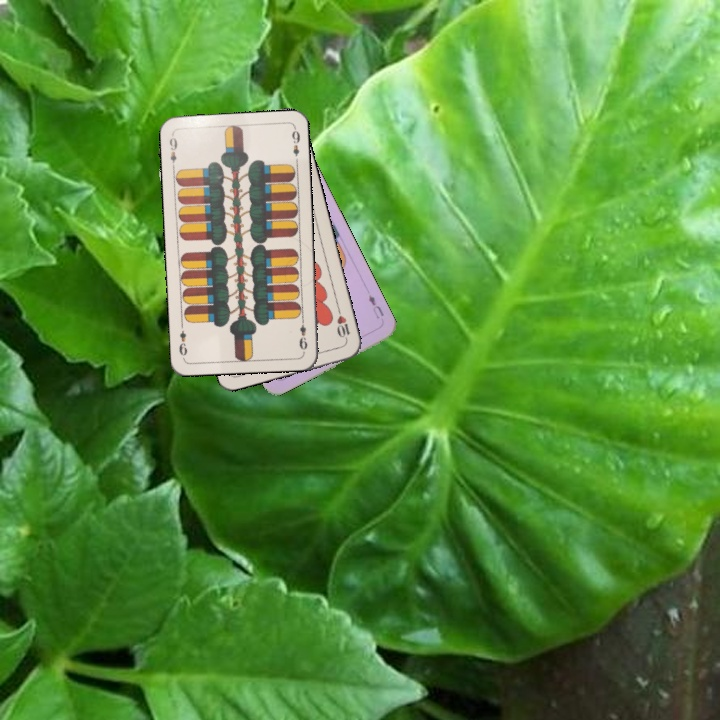E9: (295, 313, 310, 354), (165, 131, 180, 171)
EU: (364, 290, 386, 321)
H10: (333, 304, 353, 344)
